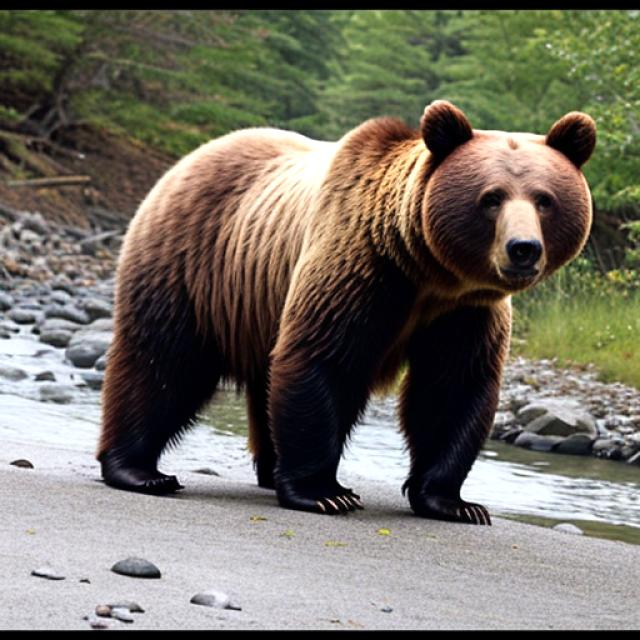bear: (102, 104, 595, 538)
